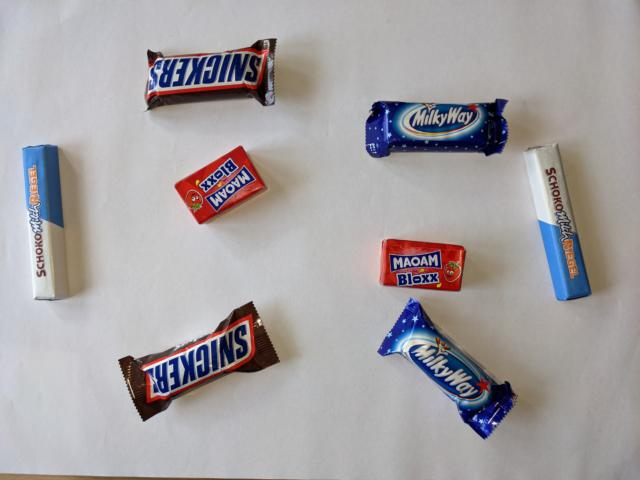MAOAM: (172, 145, 269, 227), (375, 236, 468, 294)
MilkyWay: (375, 296, 519, 441), (363, 96, 510, 161)
Schokoriegel: (519, 140, 594, 302), (19, 144, 75, 303)
Snickers: (116, 298, 281, 424), (141, 36, 280, 114)
